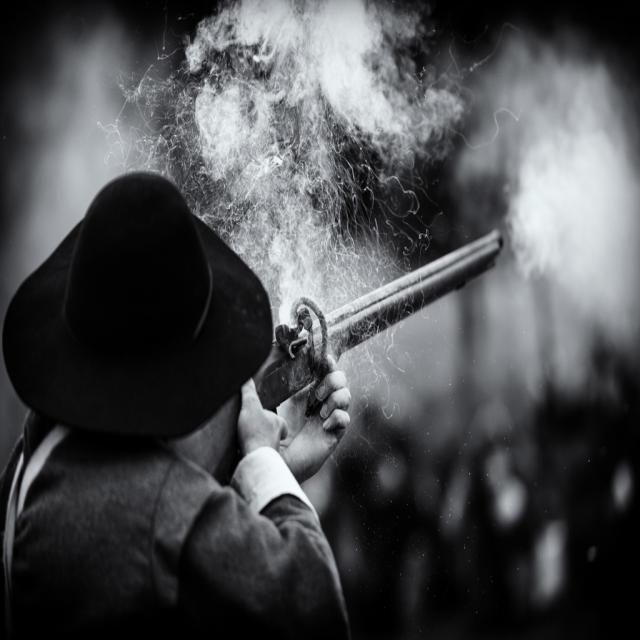weapon: (171, 226, 505, 490)
